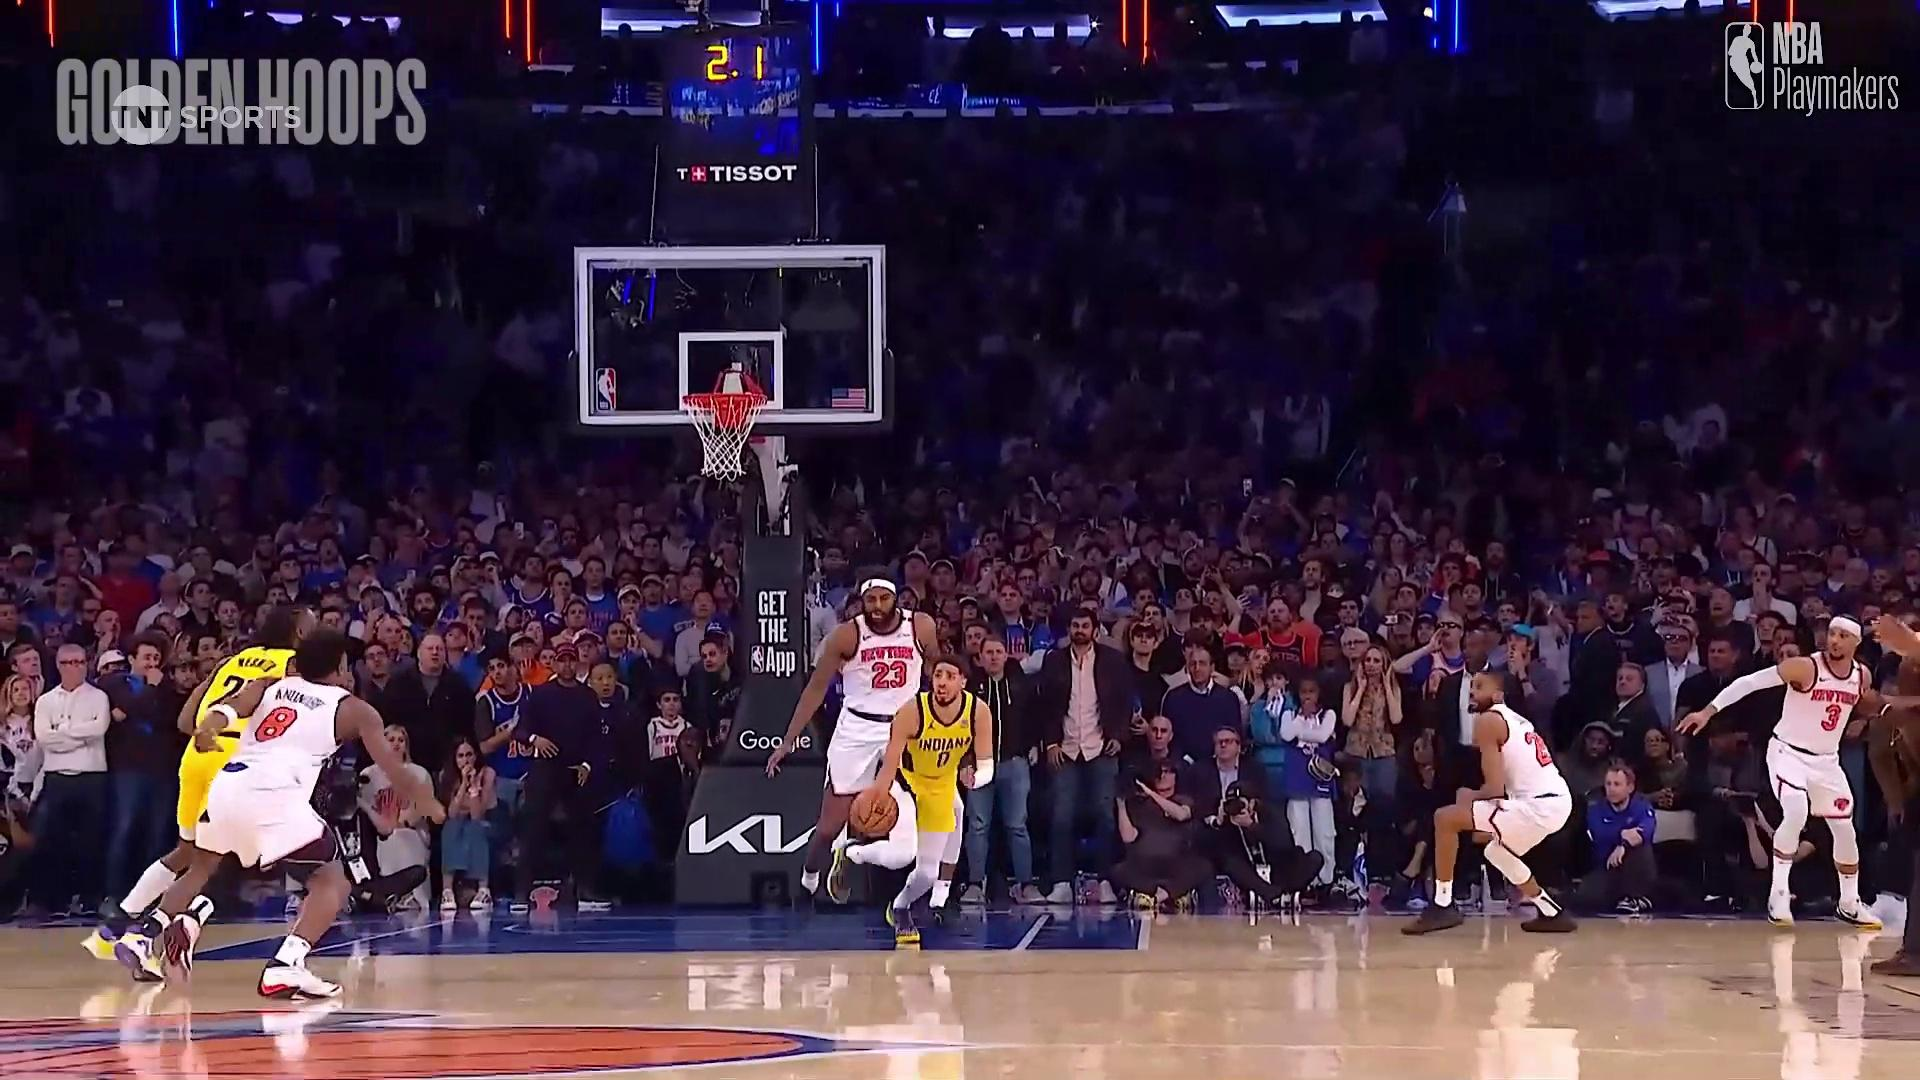ball: (843, 782, 898, 844)
hoop: (682, 375, 764, 479)
